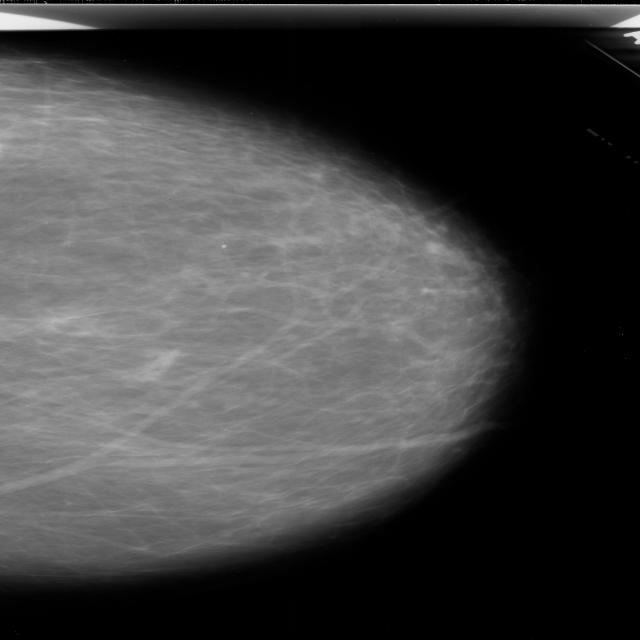normal: (0, 59, 532, 594)
